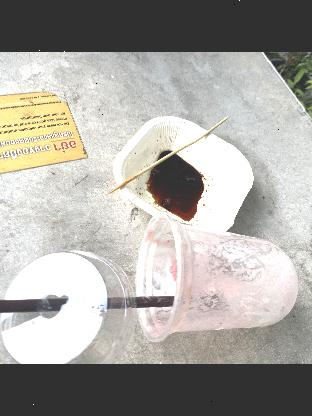Others: (134, 208, 300, 344), (104, 113, 254, 237), (0, 246, 137, 364), (109, 113, 233, 197), (0, 293, 178, 321)
